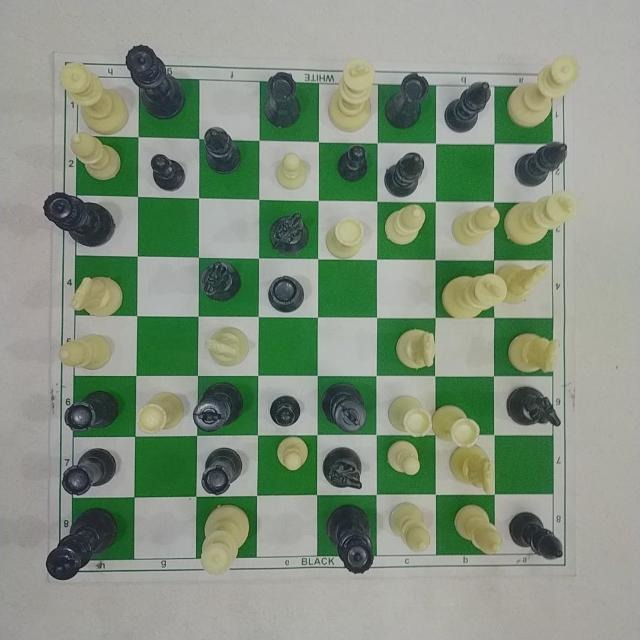black-bishop: (510, 509, 571, 565), (444, 80, 497, 135), (517, 141, 572, 191), (199, 124, 245, 178), (382, 150, 425, 200)
black-king: (37, 506, 129, 585), (323, 376, 370, 434), (195, 382, 247, 434)
black-knight: (503, 383, 563, 435), (200, 258, 249, 304), (265, 208, 311, 254), (325, 447, 371, 491)
black-pawn: (147, 148, 189, 197), (332, 145, 374, 189), (265, 389, 307, 430)
black-queen: (124, 43, 192, 121), (324, 501, 381, 579), (43, 190, 120, 246)
black-rook: (60, 445, 123, 497), (63, 386, 127, 437), (197, 441, 253, 496), (386, 68, 434, 131), (263, 70, 309, 132), (264, 271, 308, 317)
white-bishop: (63, 130, 127, 186), (448, 499, 506, 559), (388, 496, 435, 558), (450, 202, 502, 252), (59, 332, 115, 374), (383, 203, 433, 247)
white-king: (507, 194, 583, 253), (325, 53, 377, 136), (439, 267, 508, 323)
white-knight: (69, 266, 133, 322), (506, 327, 564, 374), (450, 446, 502, 496), (202, 322, 250, 372), (503, 259, 551, 308), (393, 325, 437, 375)
white-pawn: (271, 149, 316, 194), (385, 436, 429, 479), (274, 435, 316, 474)
white-queen: (508, 50, 582, 136), (58, 59, 126, 135), (193, 503, 252, 576)
white-rook: (435, 398, 485, 448), (135, 386, 186, 435), (388, 391, 433, 439), (324, 217, 372, 261)
